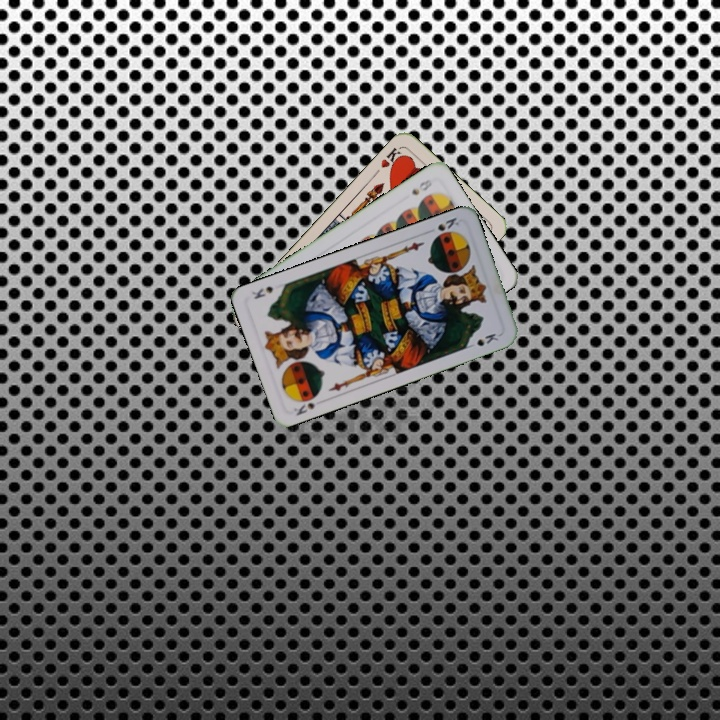HK: (377, 144, 407, 172)
S8: (407, 175, 434, 198)
SK: (290, 390, 322, 418), (433, 213, 462, 234)
